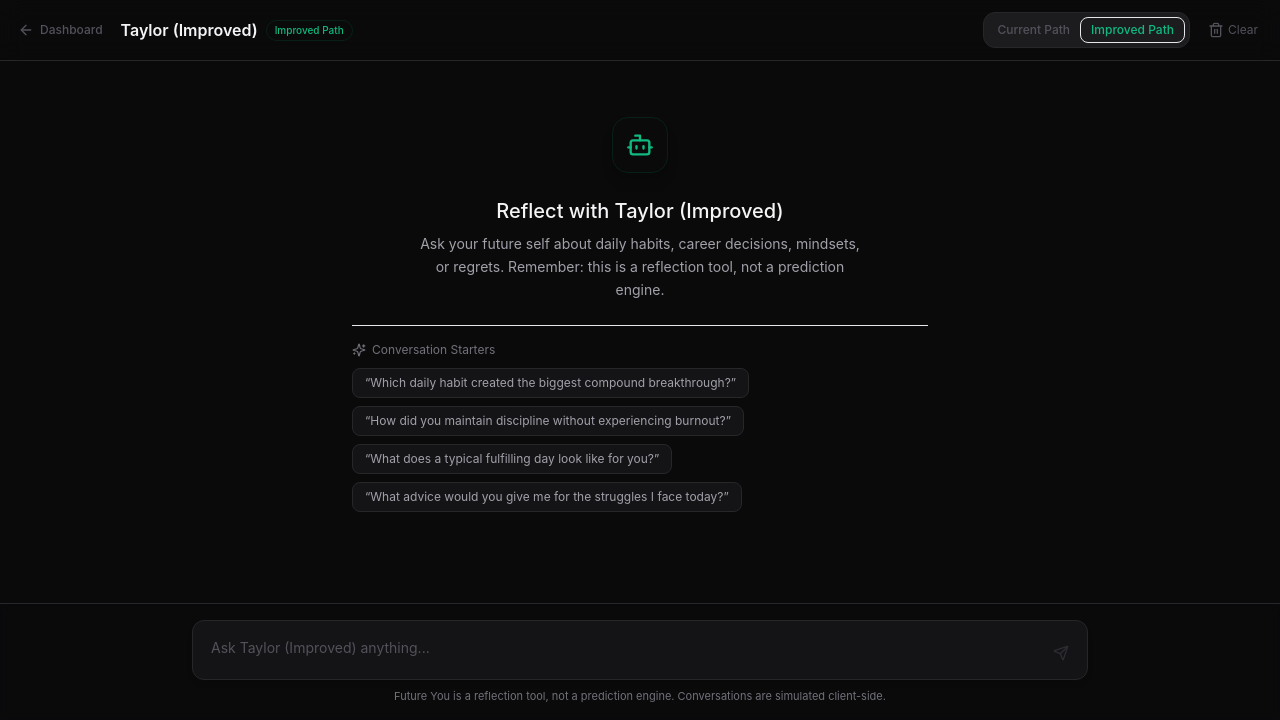
ChatPage Component › sends message via ChatInput and updates transcript
Type "How is your work life balance?" into the text box with placeholder "Ask Taylor (Improved) anything...". click: (620, 650)
box: [203,630,1037,668]
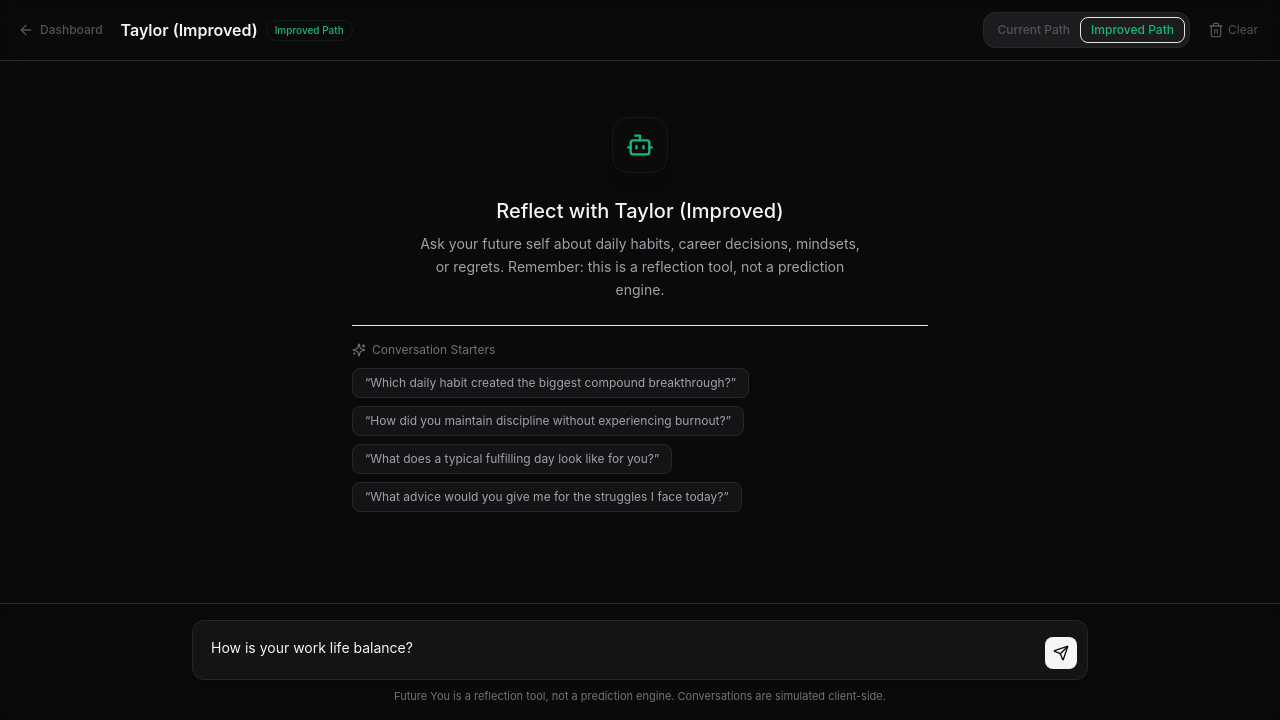
Click the button named "Send message". click: (1061, 652)
box: [1045,636,1077,668]
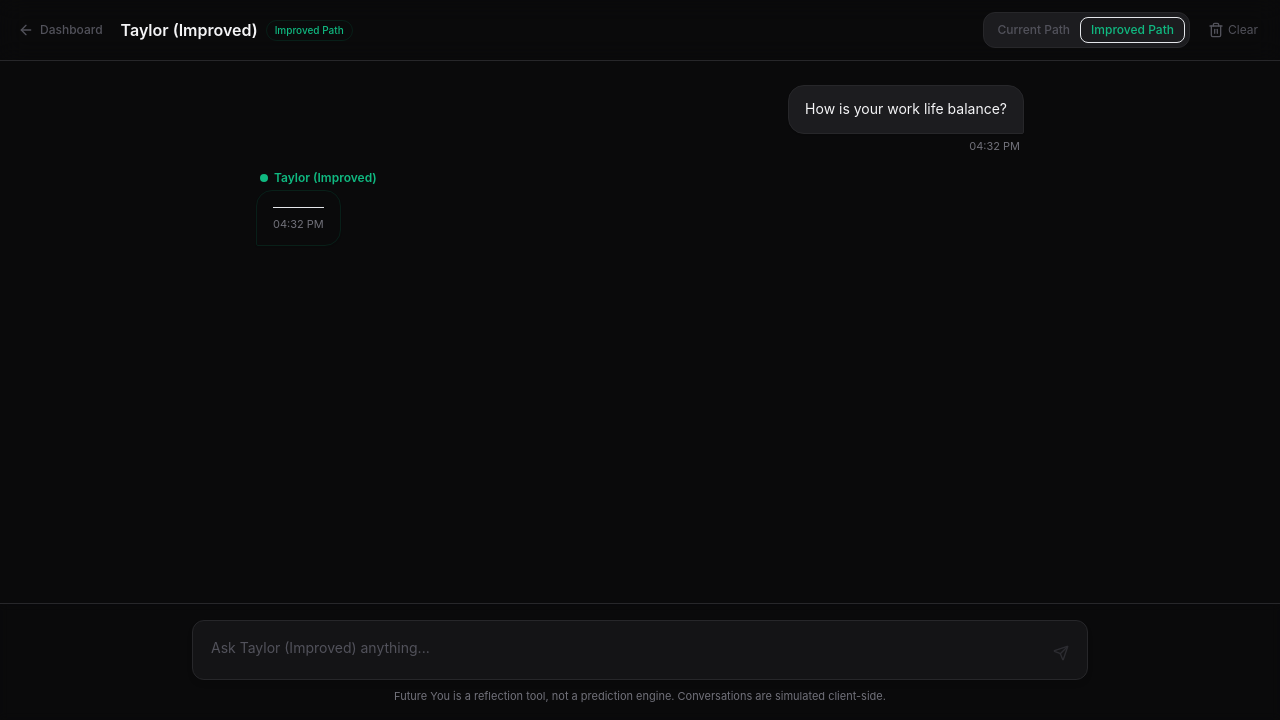
Expected: the text "How is your work life balance?" is shown, [805,98,1007,121]
